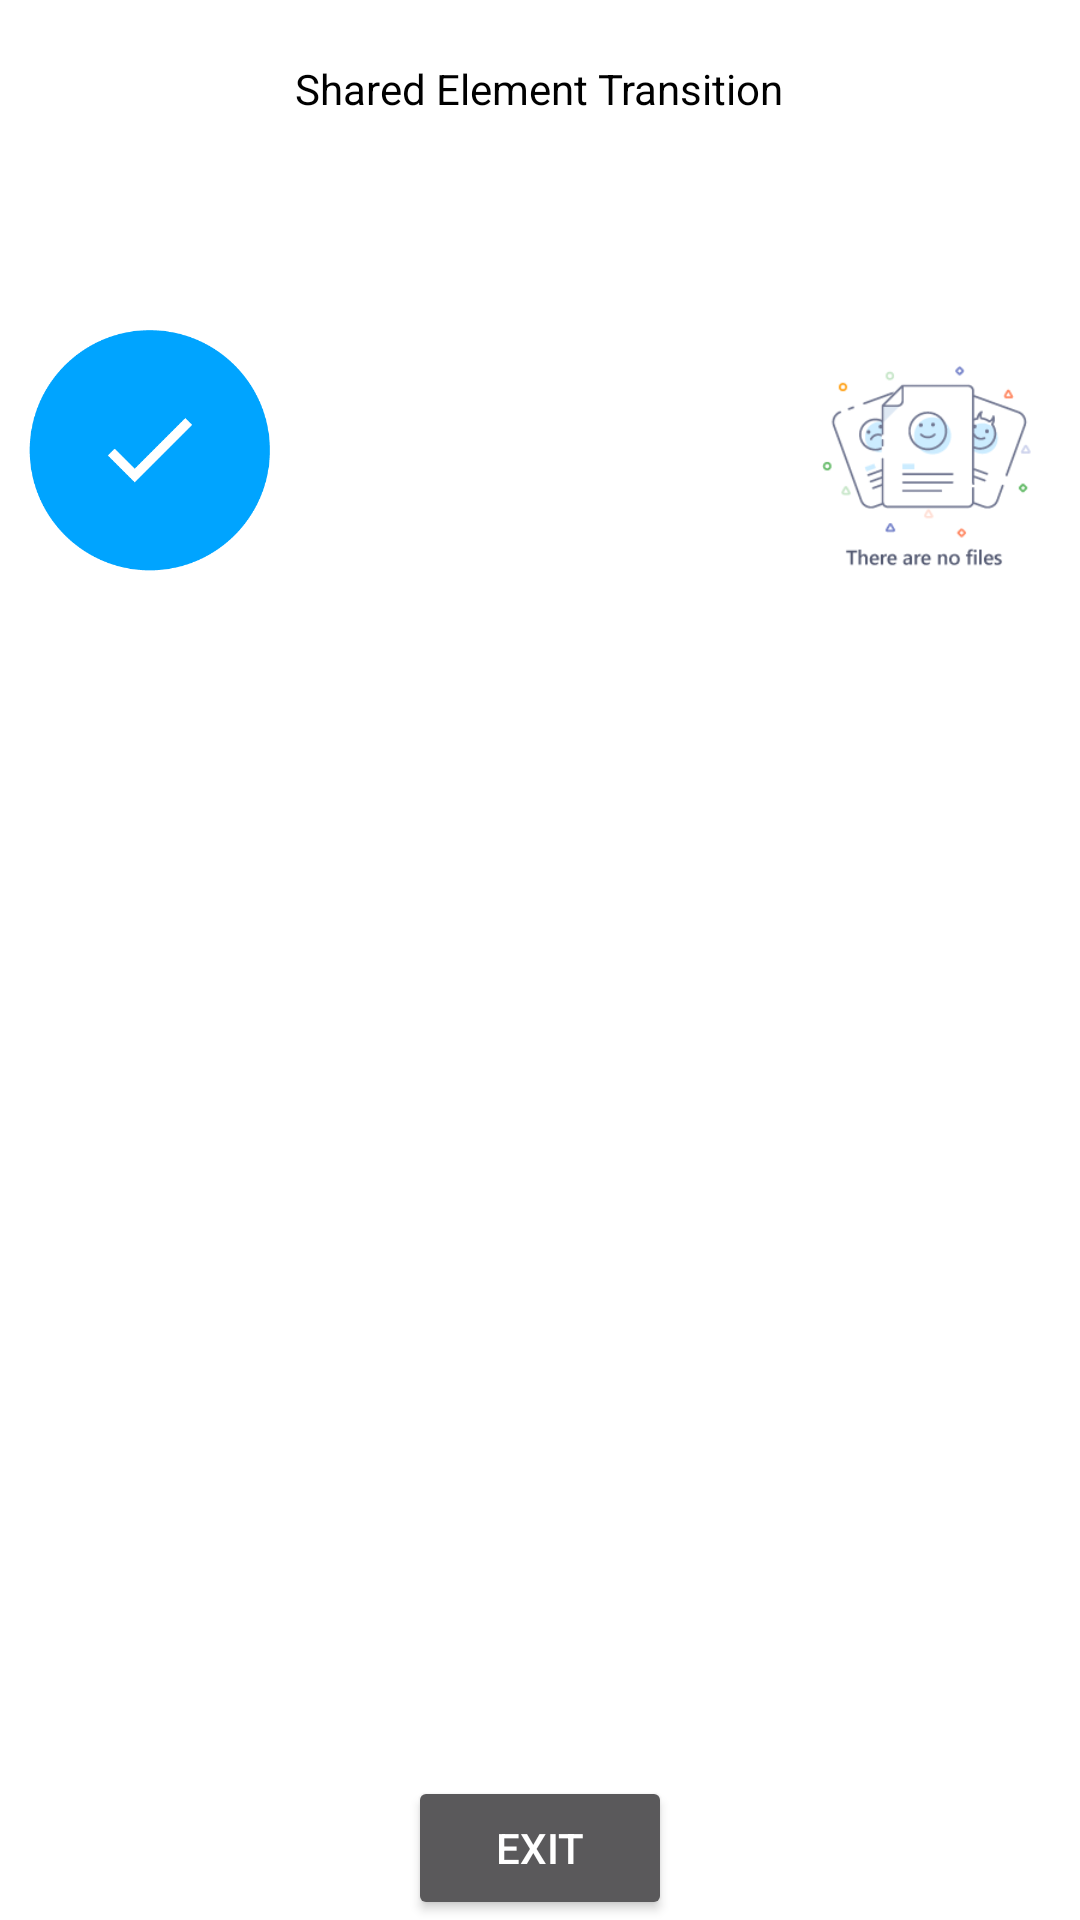

Named icons in this screenshot (1080w x 1920h) and their bounding boxes, (x1, y1, x2, y2):
done: (29, 330, 270, 571)
